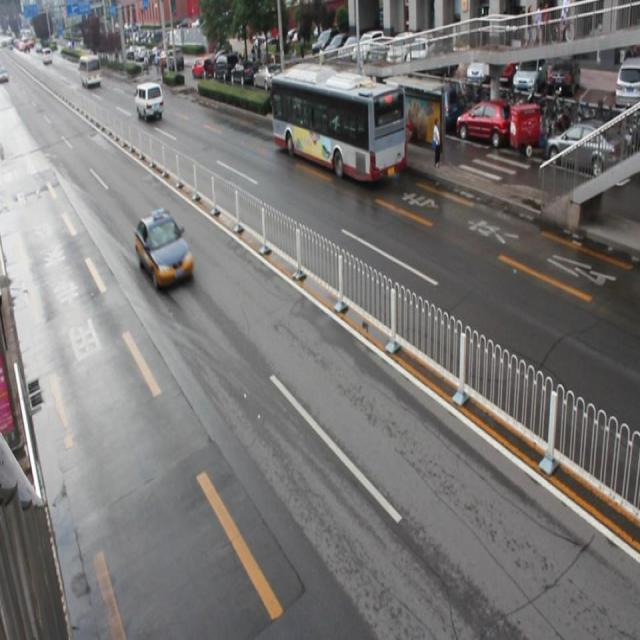car: (135, 212, 194, 288)
truck: (135, 81, 164, 120)
van: (271, 75, 404, 180)
